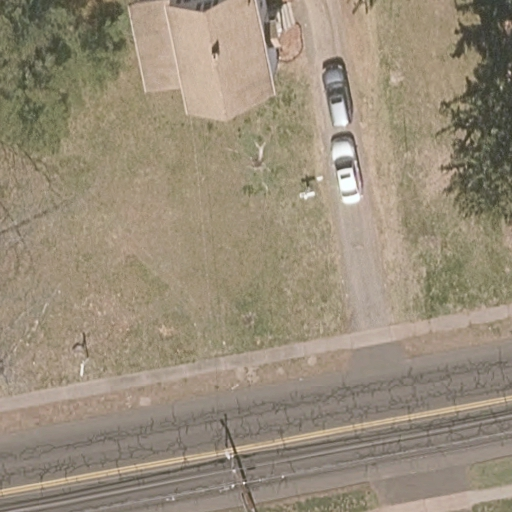DT: (221, 445, 256, 495)
